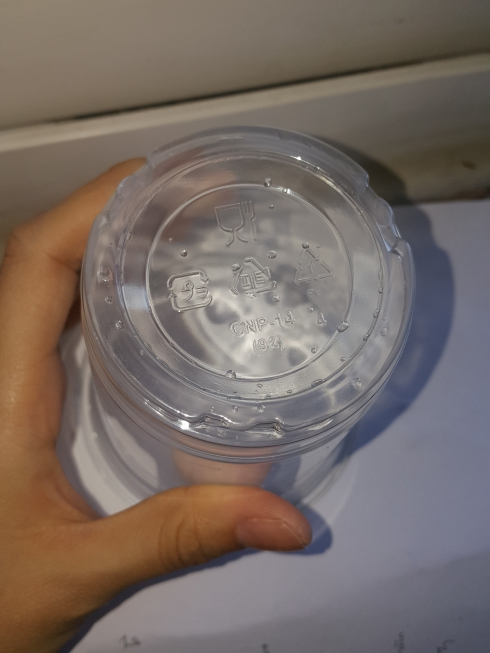recycle: (285, 240, 341, 298)
